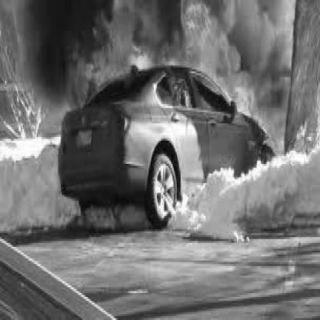Fire: (64, 0, 294, 158)
